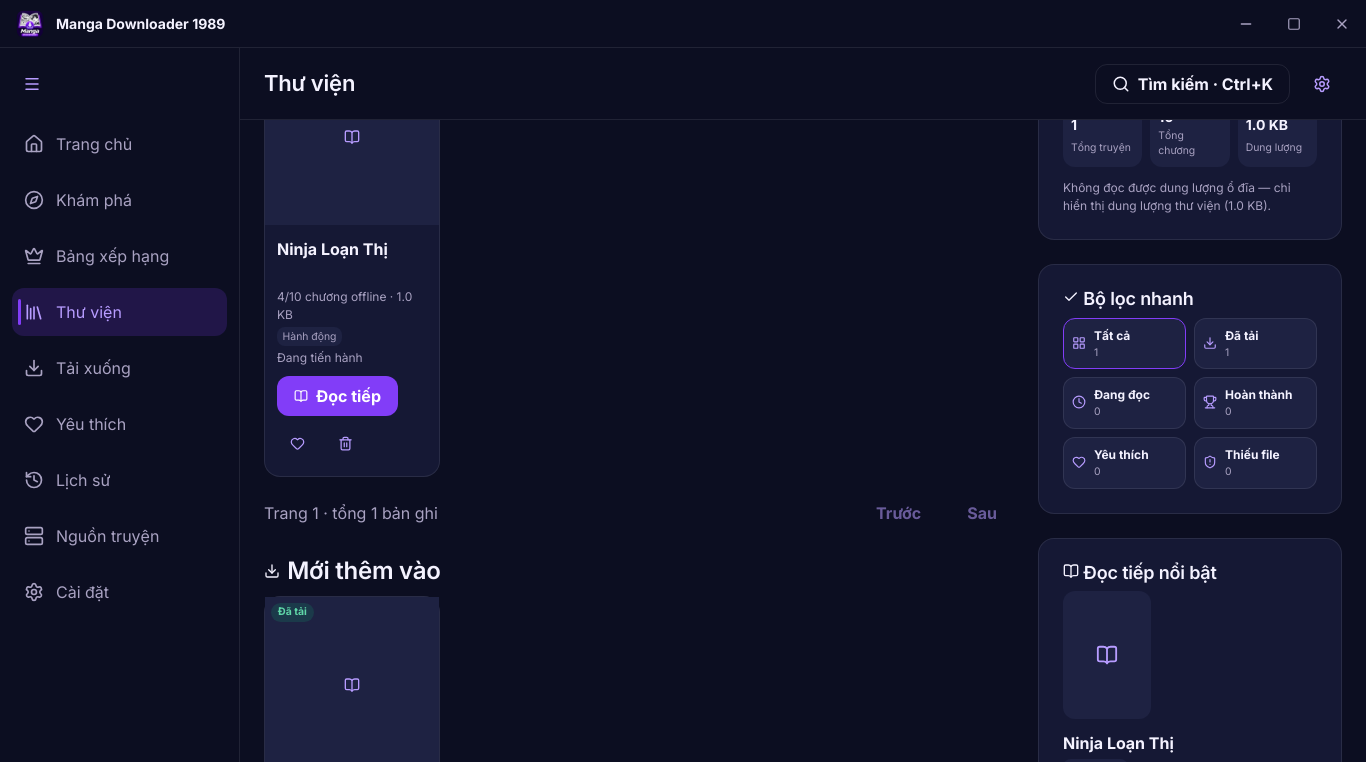
it: Xóa truyện khỏi Thư viện — hai chế độ file › mặc định GIỮ file trên đĩa và gửi deleteFiles=false
(page scrolled)
Click the button named "Xóa Ninja Loạn Thị khỏi Thư viện".
click(345, 444)  # box [325,424,365,464]
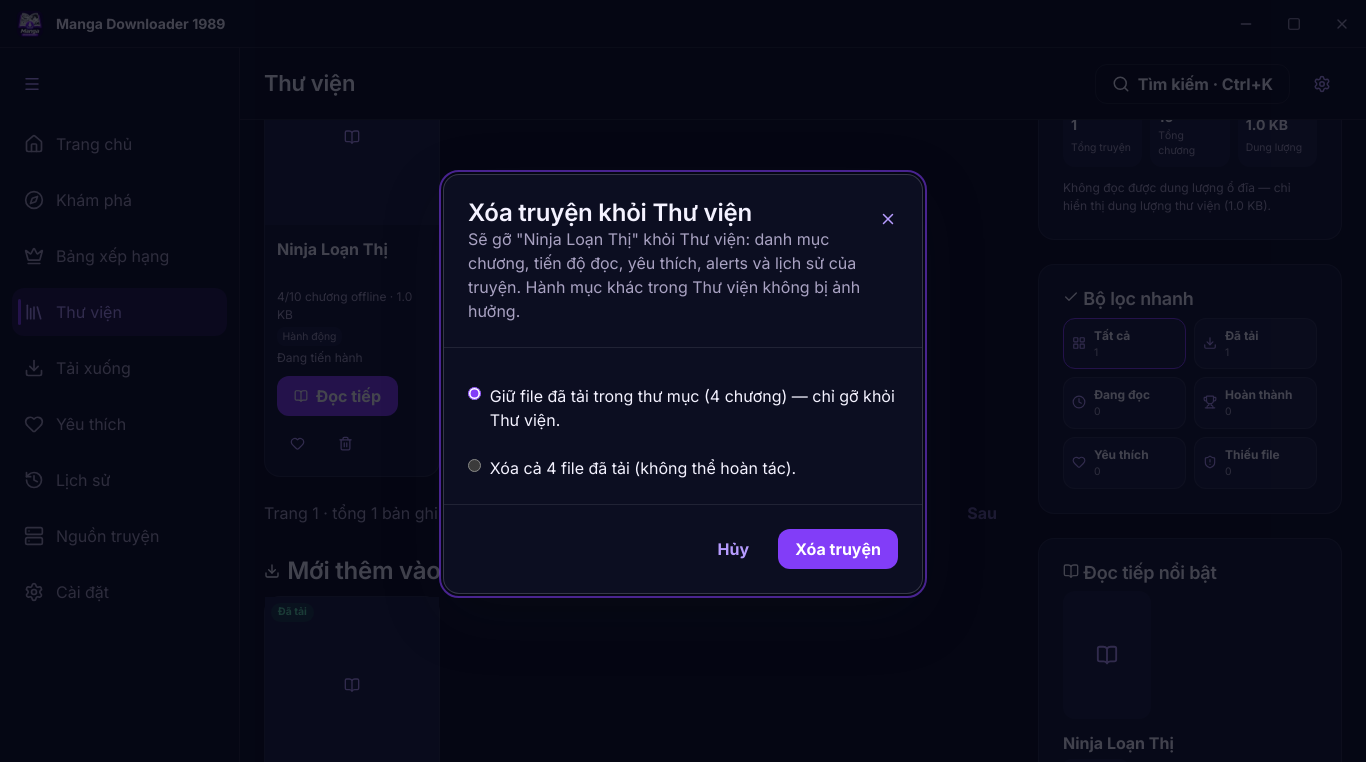
Now the radio button labelled "Giữ file đã tải" is checked, box [468,387,481,400]
Click the button "Xóa truyện".
click(838, 549)  # box [778,529,898,569]
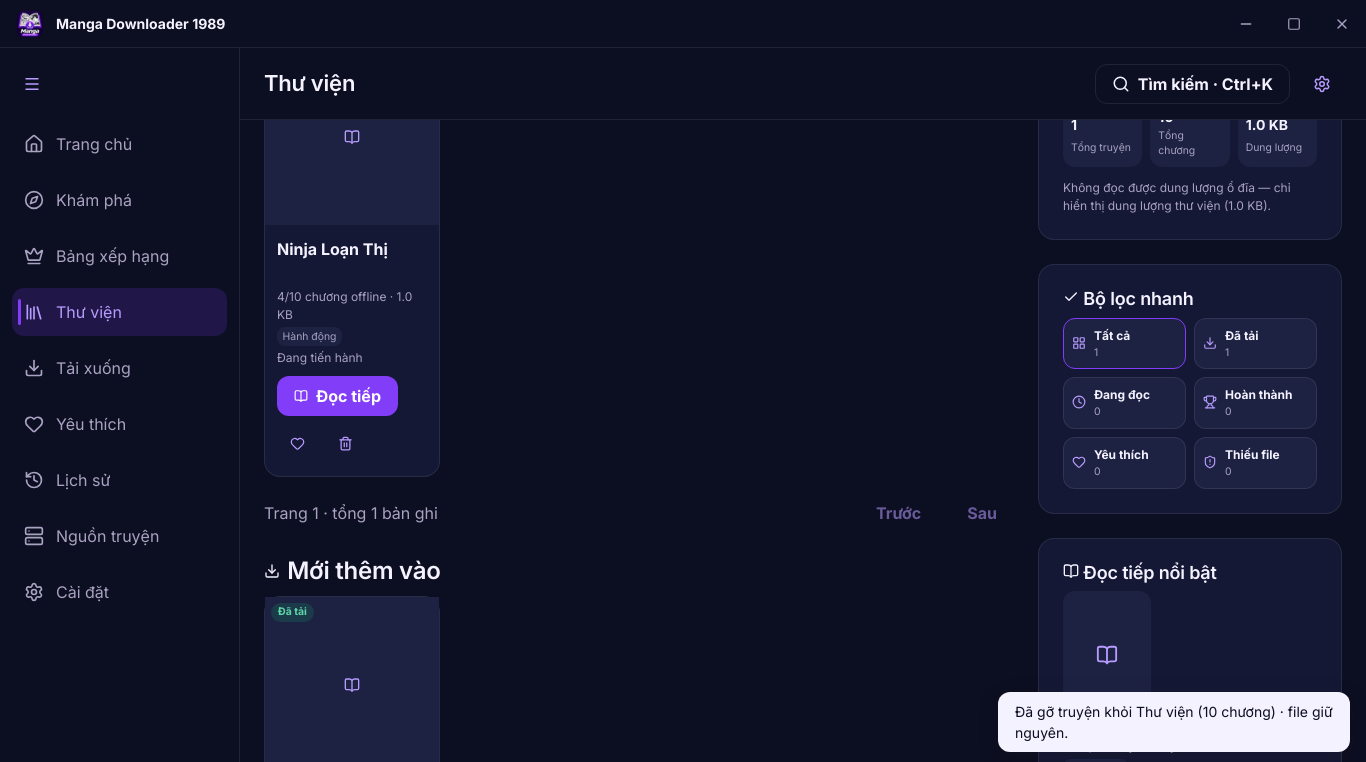
Now the text "Đã gỡ truyện khỏi Thư viện (10 chương) · file giữ nguyên." is shown, box [998,692,1350,752]
